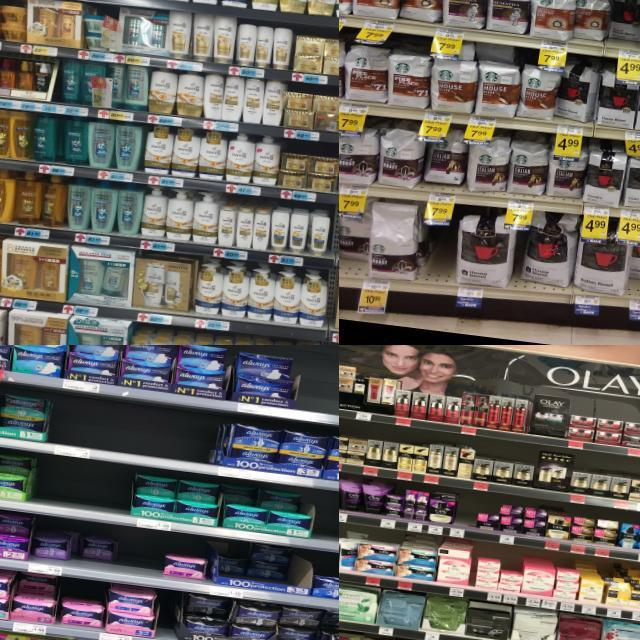empty: (48, 394, 212, 472), (34, 457, 132, 524), (297, 350, 339, 430), (114, 526, 167, 587), (420, 212, 458, 294), (312, 490, 339, 557), (454, 494, 478, 538)
